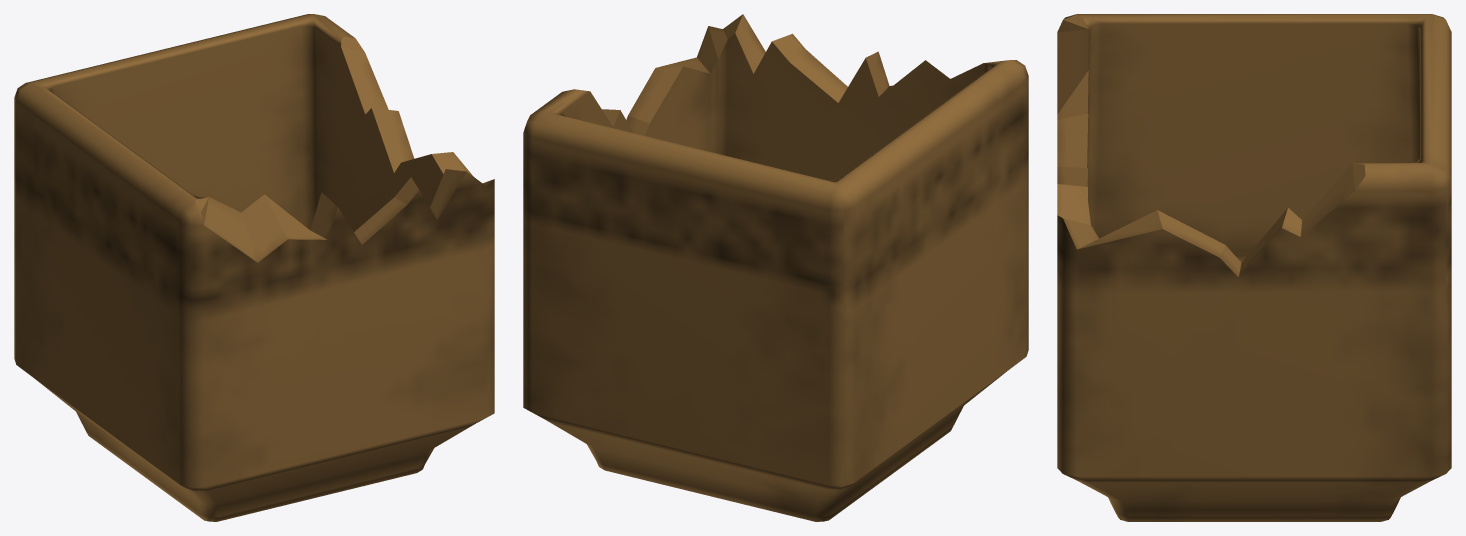
Rendered from Pot_1_break_1.fbx.
3 views of the same model, side by side, from view 1: azimuth 30°, elevation 25°; view 2: azimuth 150°, elevation 25°; view 3: azimuth 270°, elevation 25° (orthographic). The views are drawn at different scales.
Parts seen in each view (by area): view 1: Pot_1_break_1; view 2: Pot_1_break_1; view 3: Pot_1_break_1.
Boxes of the visible parts, x1=… form: Pot_1_break_1: x1=14, y1=14, x2=494, y2=521; Pot_1_break_1: x1=523, y1=14, x2=1028, y2=521; Pot_1_break_1: x1=1057, y1=14, x2=1451, y2=521.
Size of the model in its own units: 37.02 by 39.11 by 37.02.
